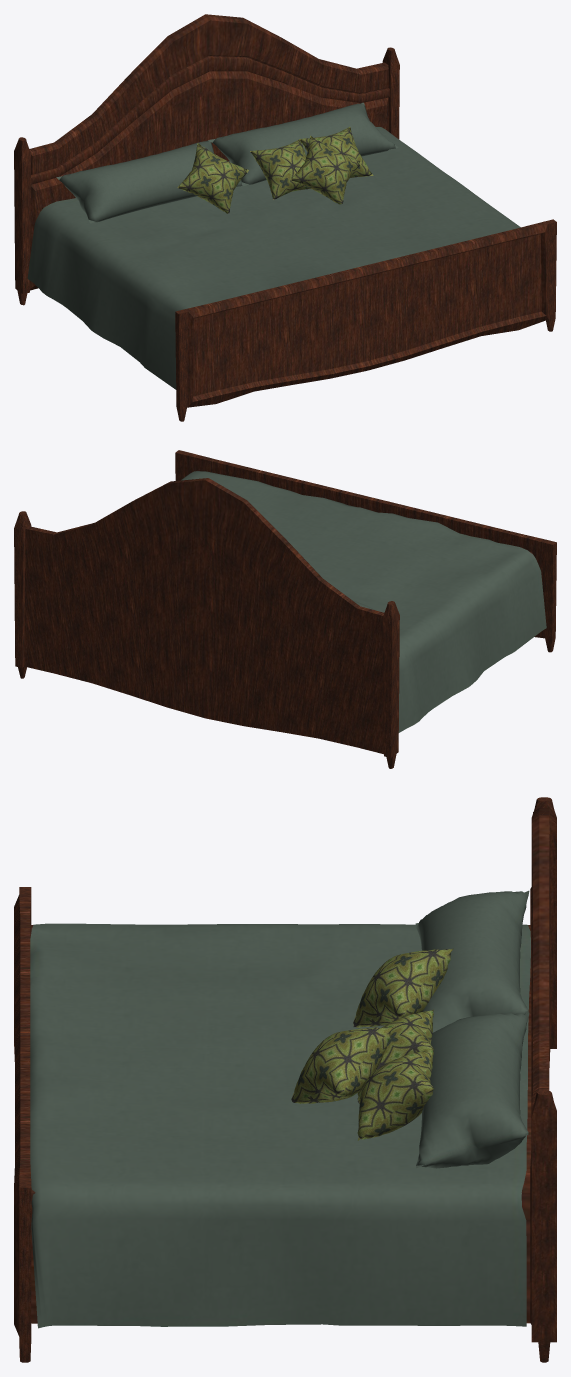
The model's file is old_double_bed.glb.
3 renders of one model, top to bottom at view 1: azimuth 30°, elevation 25°; view 2: azimuth 150°, elevation 25°; view 3: azimuth 270°, elevation 25°, orthographic. The views are drawn at different scales.
Parts seen in each view (by area): view 1: Old Double Bed.001; view 2: Old Double Bed.001; view 3: Old Double Bed.001.
Part boxes in pixels (bbox=[...]): Old Double Bed.001: bbox=[14, 14, 556, 421]; Old Double Bed.001: bbox=[14, 450, 556, 768]; Old Double Bed.001: bbox=[14, 797, 556, 1362].
Size of the model in its own units: 288 by 177 by 220.
Materials: 1 (1 with a texture image).
